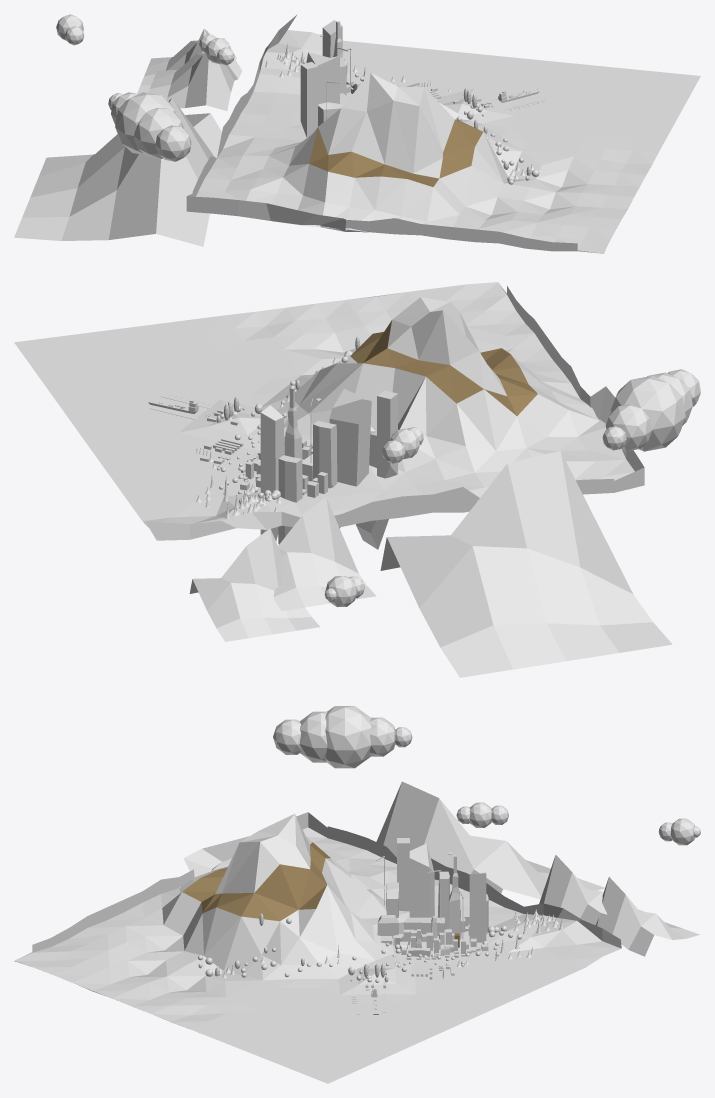
3 views of the same model, one above another, from view 1: azimuth 30°, elevation 25°; view 2: azimuth 150°, elevation 25°; view 3: azimuth 270°, elevation 25° (orthographic). The views are drawn at different scales.
Parts seen in each view (by area): view 1: Plane, Plane.002, Plane.001, Icosphere.087, Icosphere.088, Cube.002, Cube.001, Plane.005, Icosphere.089, Cube.006, Cube.003, Icosphere.021; view 2: Plane, Plane.002, Plane.005, Plane.001, Cube.001, Icosphere.087, Cube.006, Cube.002, Icosphere.025, Cube, Cube.059, Cube.005 (+2 smaller); view 3: Plane, Plane.002, Plane.005, Icosphere.087, Plane.001, Cube.001, Icosphere.088, Cube.006, Cube.004, Icosphere.025, Cube.002, Icosphere.089 (+2 smaller).
Boxes of the visible parts, x1=… form: Plane: x1=186, y1=15, x2=700, y2=253; Plane.002: x1=14, y1=97, x2=221, y2=246; Plane.001: x1=148, y1=53, x2=242, y2=110; Icosphere.087: x1=115, y1=92, x2=175, y2=155; Icosphere.088: x1=134, y1=108, x2=183, y2=158; Cube.002: x1=300, y1=62, x2=318, y2=137; Cube.001: x1=306, y1=52, x2=339, y2=104; Plane.005: x1=137, y1=29, x2=236, y2=93; Icosphere.089: x1=155, y1=125, x2=191, y2=161; Cube.006: x1=322, y1=20, x2=342, y2=57; Cube.003: x1=333, y1=21, x2=346, y2=95; Icosphere.021: x1=56, y1=14, x2=83, y2=40; Plane: x1=14, y1=282, x2=644, y2=540; Plane.002: x1=380, y1=451, x2=672, y2=677; Plane.005: x1=189, y1=528, x2=319, y2=641; Plane.001: x1=273, y1=497, x2=376, y2=610; Cube.001: x1=329, y1=389, x2=371, y2=486; Icosphere.087: x1=610, y1=375, x2=685, y2=451; Cube.006: x1=260, y1=405, x2=283, y2=541; Cube.002: x1=377, y1=390, x2=397, y2=478; Icosphere.025: x1=605, y1=404, x2=652, y2=451; Cube: x1=313, y1=420, x2=337, y2=488; Cube.059: x1=278, y1=455, x2=302, y2=544; Cube.005: x1=356, y1=431, x2=388, y2=549; Plane: x1=14, y1=812, x2=621, y2=1083; Plane.002: x1=376, y1=781, x2=604, y2=899; Plane.005: x1=595, y1=877, x2=699, y2=956; Icosphere.087: x1=325, y1=706, x2=371, y2=768; Plane.001: x1=539, y1=855, x2=644, y2=925; Cube.001: x1=409, y1=843, x2=434, y2=917; Icosphere.088: x1=299, y1=711, x2=327, y2=762; Cube.006: x1=469, y1=872, x2=486, y2=942; Cube.004: x1=377, y1=915, x2=444, y2=938; Icosphere.025: x1=369, y1=717, x2=395, y2=756; Cube.002: x1=397, y1=838, x2=409, y2=911; Icosphere.089: x1=273, y1=719, x2=301, y2=754.
Size of the model in its own units: 1669 by 495 by 1588.
